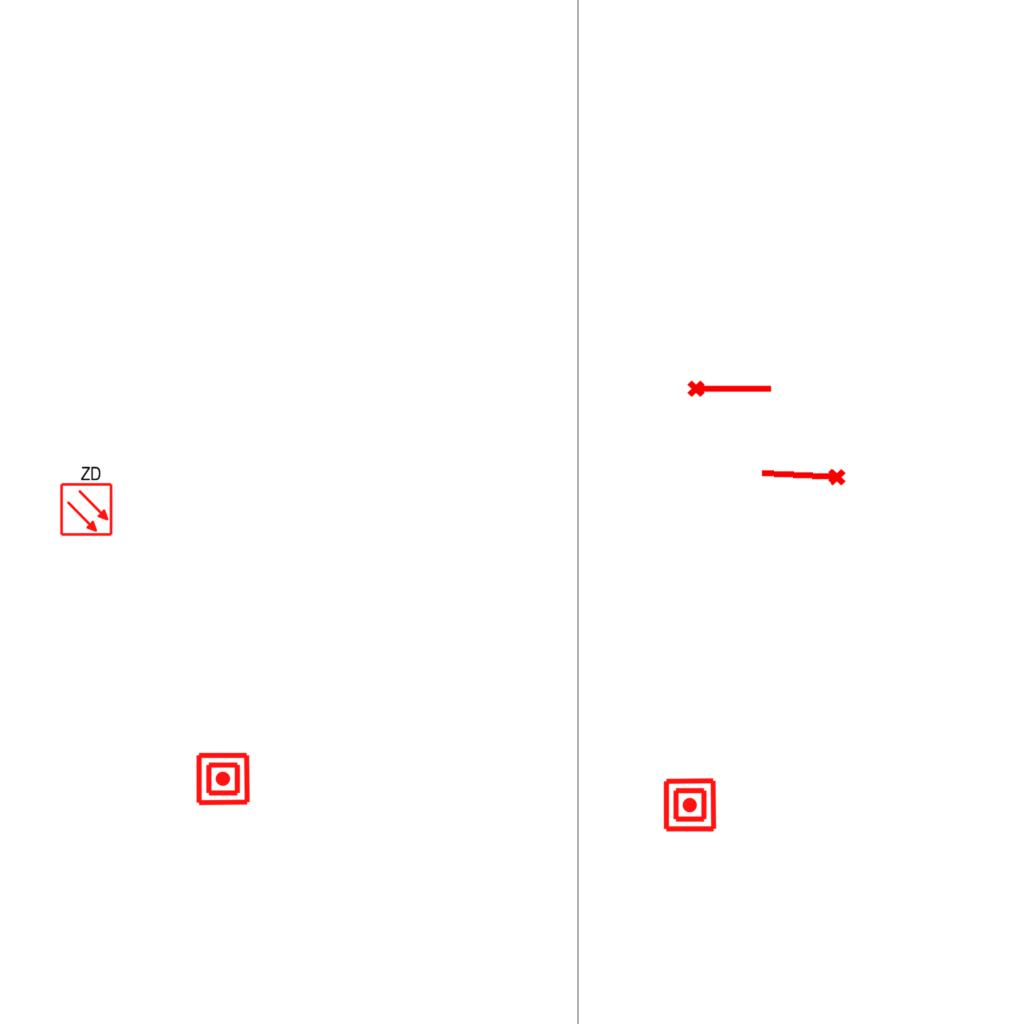ASR_Ansaugoeffnung: (758, 462, 848, 491), (686, 376, 774, 399)
NAM-Nichtautomatischer_Melder: (662, 777, 718, 833), (195, 751, 251, 807)
ZD_Melder_in_Zwischendecke_mit_Revisionsoeffnung_mind_40_x_40_cm: (57, 463, 114, 537)
